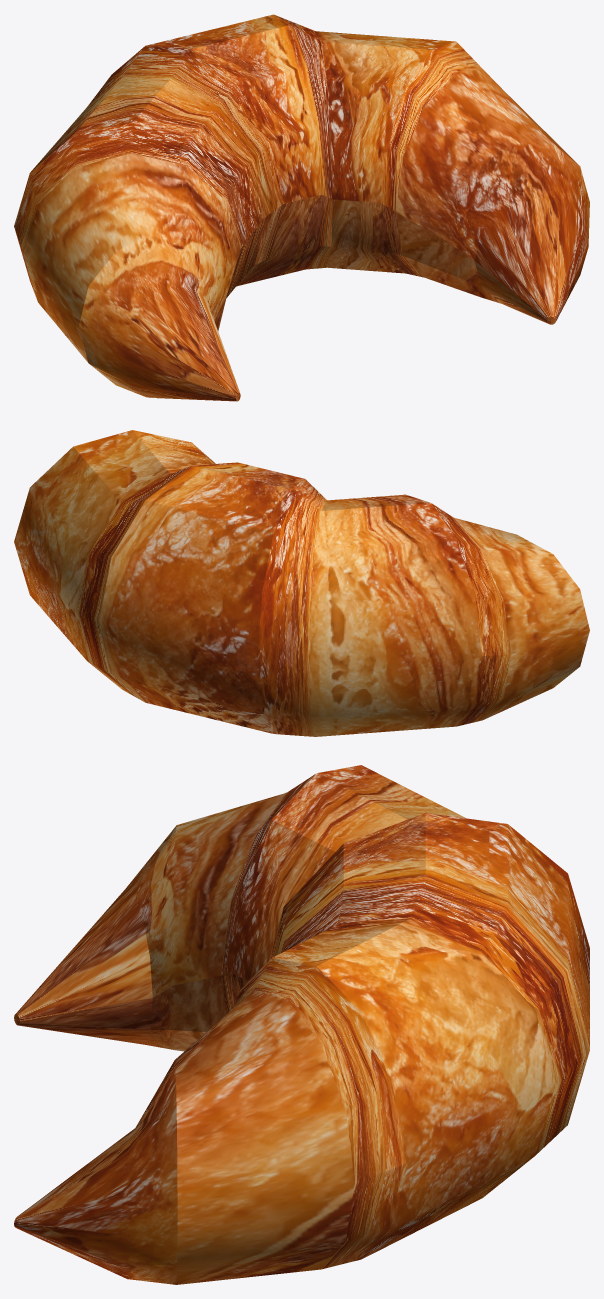
Rendered from croissant.fbx.
The picture shows the model from 3 angles, top to bottom: view 1: azimuth 30°, elevation 25°; view 2: azimuth 150°, elevation 25°; view 3: azimuth 270°, elevation 25°; orthographic projection. The views are drawn at different scales.
Parts seen in each view (by area): view 1: croissant; view 2: croissant; view 3: croissant.
Part boxes in pixels (box(x1,y1,x2,y2)): croissant: box(14, 14, 589, 401); croissant: box(14, 430, 589, 736); croissant: box(14, 765, 589, 1284).
Size of the model in its own units: 107 by 47.22 by 78.83.
1 material, 1 textured.
